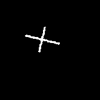single_crochet: (26, 27, 59, 51)
